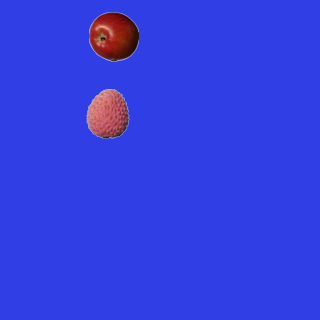Apple Braeburn: (88, 11, 138, 61)
Lychee: (82, 88, 132, 138)
